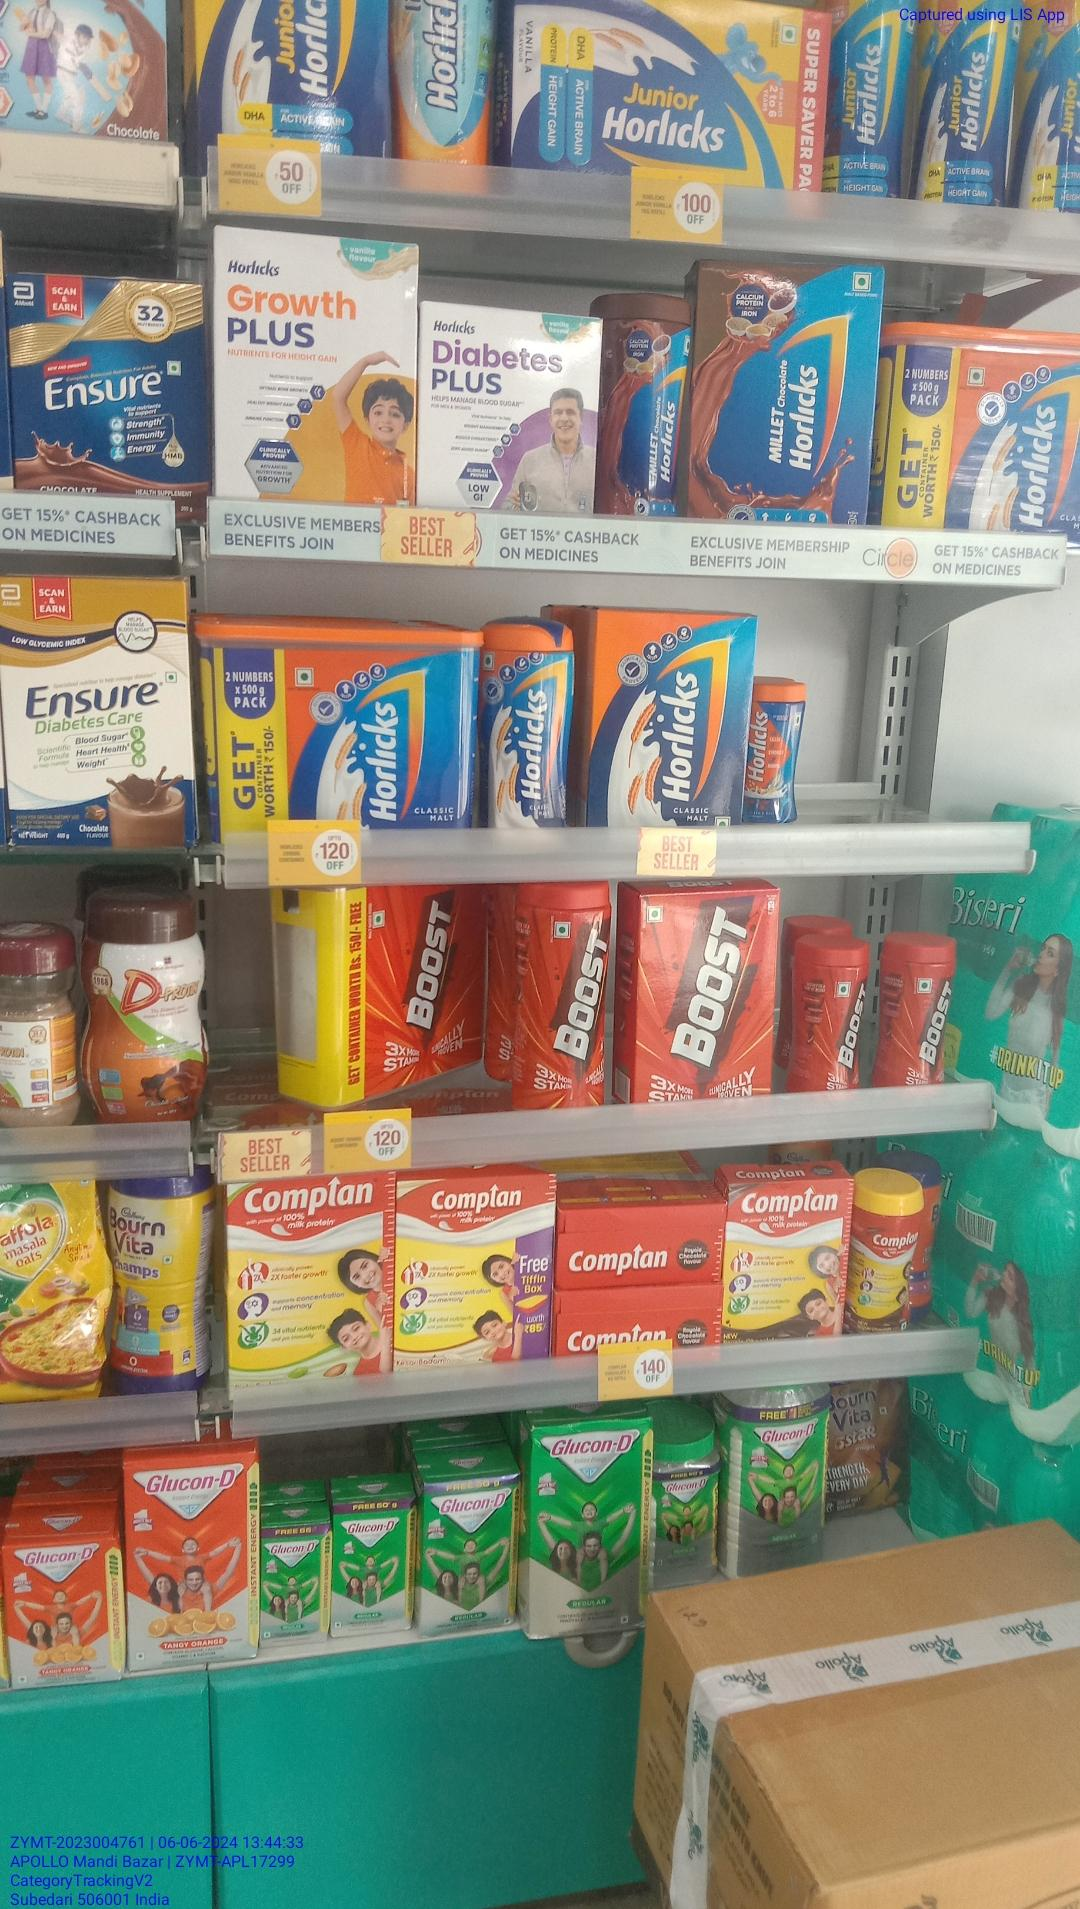BOURN_VITA_CHAMPS_500_G_JAR: (109, 1177, 199, 1394)
COMPLAN_CHOCOLATE_200_GMS_JAR: (852, 1185, 928, 1345)
COMPLAN_CHOCOLATE_200_GMS_PACK: (725, 1181, 843, 1343)
COMPLAN_PISTA_BADAM_500_GMS_PACK: (224, 1181, 388, 1402)
HORLICKS_JUNIOR_VANILLA_500_GM_JAR: (928, 3, 1021, 203), (831, 0, 921, 198)
HORLICK_CLASSIC_MALT_200_G_JAR: (750, 679, 806, 823)
HORLICK_CLASSIC_MALT_500_G_JAR: (480, 615, 568, 836)
HORLICK_MALT_1_KG_CONTAINER: (204, 615, 477, 834), (882, 320, 1080, 534)
